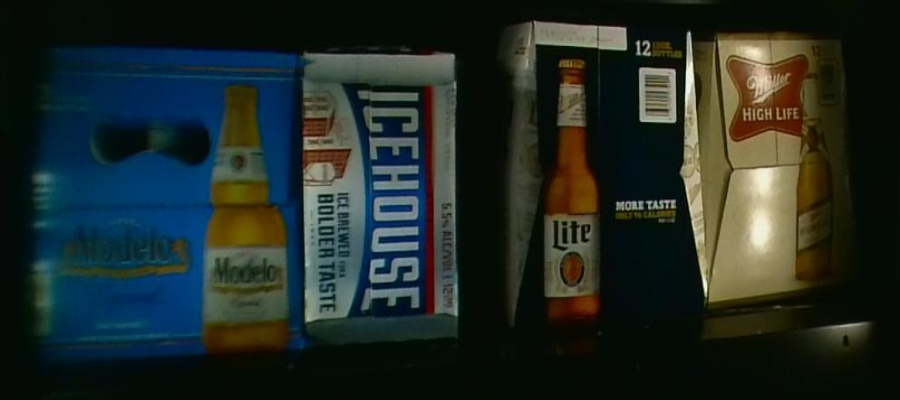bottle: (12, 45, 304, 350), (497, 21, 706, 338), (304, 47, 457, 343), (703, 29, 857, 307)
